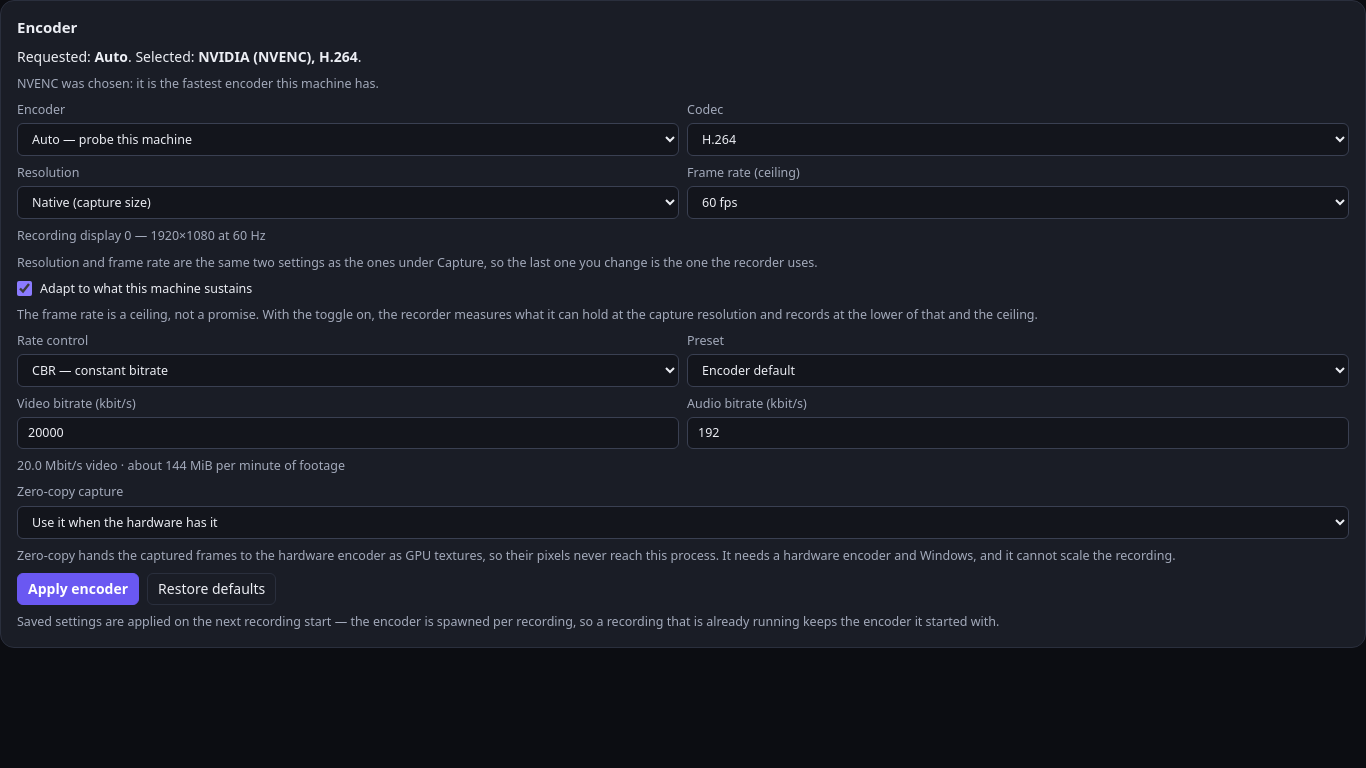
it: the encoder section › says when the chosen rate is above the display’s own rate
Select "120 fps" in the dropdown labelled "Frame rate (ceiling)" at point(1018, 203), box [687,186,1349,219]
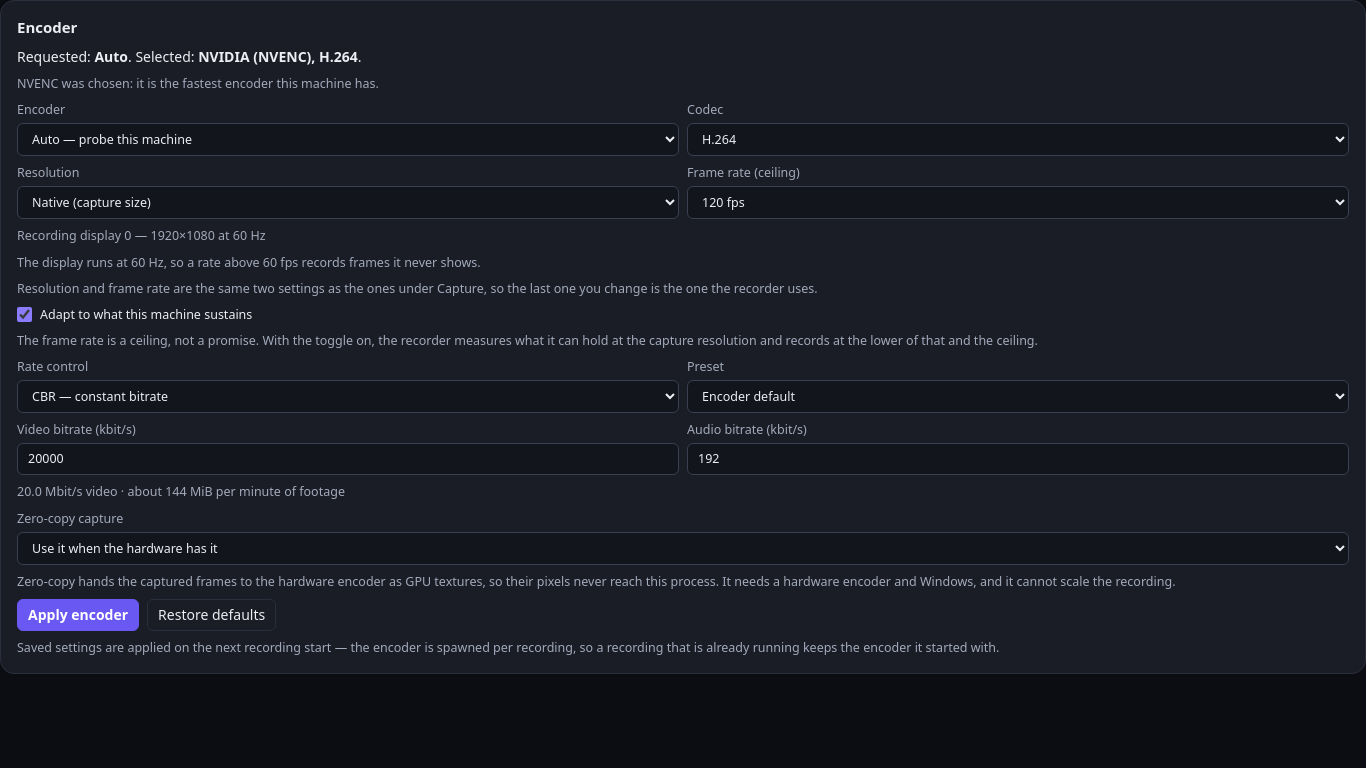
expect the text "The display runs at 60 Hz, so a rate above 60 fps records frames it never shows." is shown: met, box [17,254,481,270]
